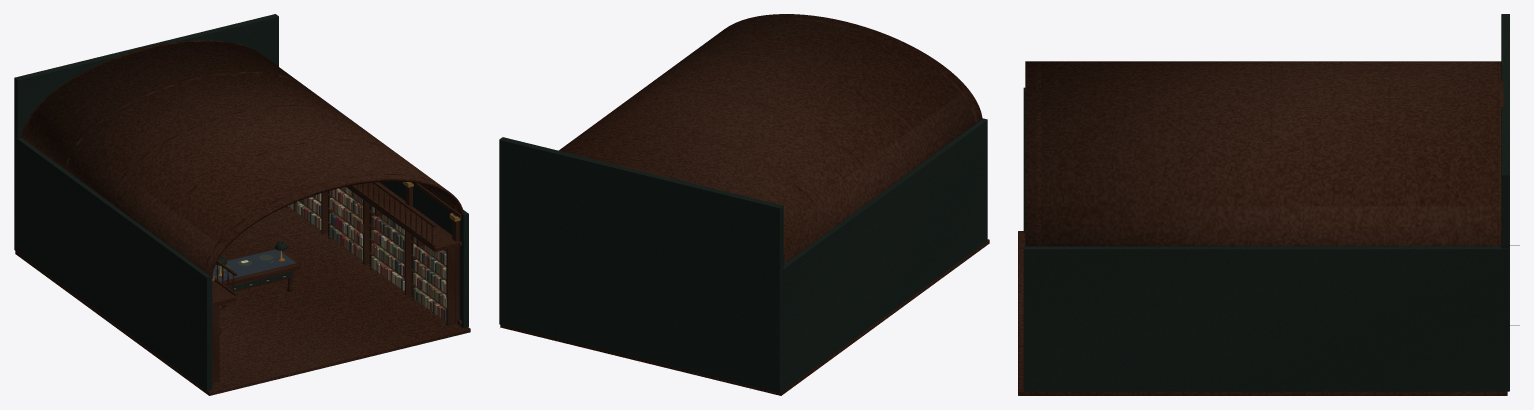
The model's file is library-room.glb.
The picture shows the model from 3 angles, left to right: view 1: azimuth 30°, elevation 25°; view 2: azimuth 150°, elevation 25°; view 3: azimuth 270°, elevation 25°; orthographic projection. The views are drawn at different scales.
Parts seen in each view (by area): view 1: Library parquet floor, Library enclosing wall, Library carved bookcase stile.008, Library catalogue leather field, Library catalogue octagonal top, Library carved bookcase stile.010, Library carved bookcase stile.012, Library bound volumes.101, Library bound volumes.126, Library carved bookcase stile, Library bound volumes.103, Library bound volumes.127 (+9 smaller); view 2: Library enclosing wall, Library parquet floor; view 3: Library parquet floor, Library enclosing wall.
Boxes of the visible parts, left/top/right/bottom form: Library parquet floor: left=15, top=40, right=470, bottom=395; Library enclosing wall: left=14, top=14, right=468, bottom=390; Library carved bookcase stile.008: left=411, top=235, right=455, bottom=325; Library catalogue leather field: left=212, top=249, right=295, bottom=281; Library catalogue octagonal top: left=214, top=247, right=301, bottom=308; Library carved bookcase stile.010: left=369, top=204, right=411, bottom=295; Library carved bookcase stile.012: left=328, top=188, right=369, bottom=264; Library bound volumes.101: left=414, top=238, right=446, bottom=317; Library bound volumes.126: left=371, top=214, right=404, bottom=285; Library carved bookcase stile: left=212, top=305, right=219, bottom=382; Library bound volumes.103: left=413, top=237, right=446, bottom=313; Library bound volumes.127: left=371, top=206, right=404, bottom=289; Library enclosing wall: left=499, top=118, right=987, bottom=392; Library parquet floor: left=500, top=14, right=989, bottom=395; Library parquet floor: left=1018, top=61, right=1507, bottom=395; Library enclosing wall: left=1023, top=14, right=1509, bottom=391.
Size of the model in its own units: 10.52 by 6.77 by 13.84.
Materials: 14 (5 with a texture image).
